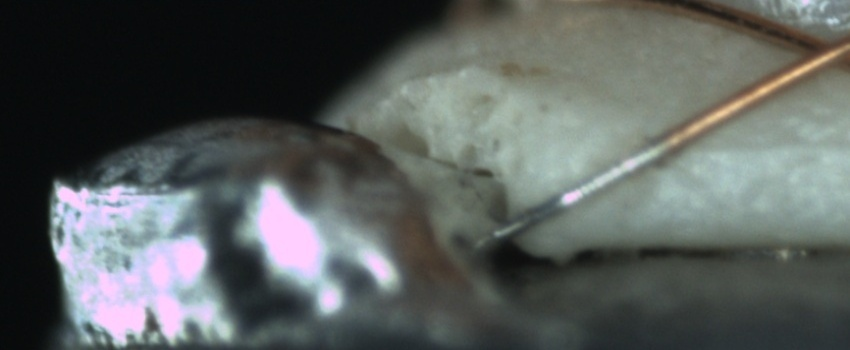CL: (773, 17, 850, 82)
DL: (681, 116, 849, 178)
TS: (493, 139, 675, 244)
